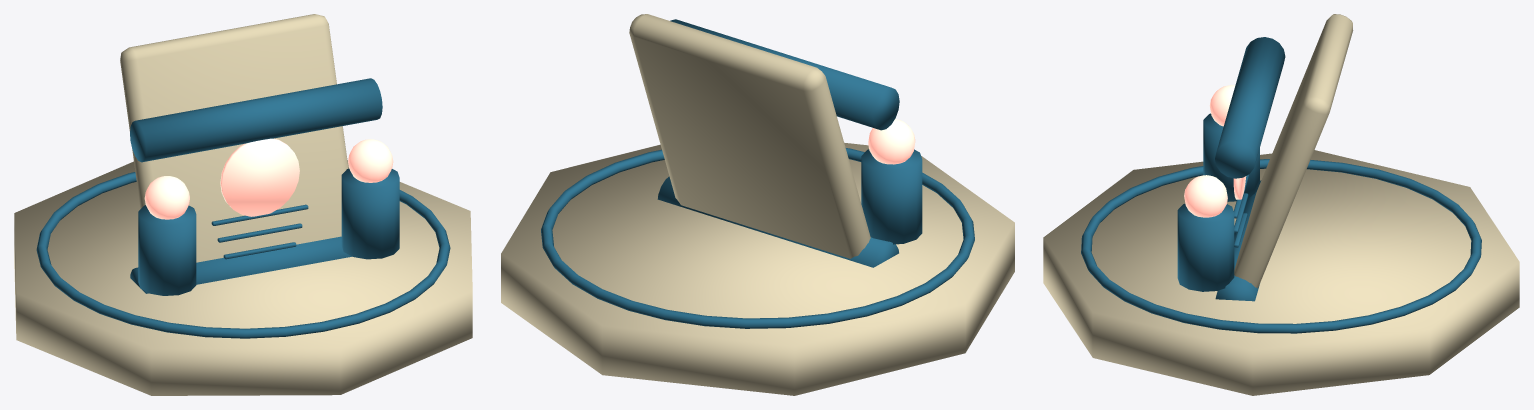
The picture shows the model from 3 angles, left to right: view 1: azimuth 30°, elevation 25°; view 2: azimuth 150°, elevation 25°; view 3: azimuth 270°, elevation 25°; orthographic projection. The views are drawn at different scales.
Visible parts, largest first — view 1: Hexagonal plinth, Parchment, Binding.001, Inlaid rim, 3B embossed seal, Tactical token, Tactical token.001, Binding, Tactical head, Tactical head.001, Embossed line, Embossed line.001 (+1 smaller); view 2: Hexagonal plinth, Parchment, Inlaid rim, Tactical token, Binding.001, Tactical head, Binding; view 3: Hexagonal plinth, Parchment, Inlaid rim, Binding.001, Tactical token.001, Tactical token, Tactical head.001, Binding, Tactical head.
Boxes of the visible parts, x1=… form: Hexagonal plinth: x1=14, y1=160, x2=472, y2=395; Parchment: x1=120, y1=14, x2=348, y2=262; Binding.001: x1=130, y1=78, x2=382, y2=162; Inlaid rim: x1=36, y1=172, x2=450, y2=338; 3B embossed seal: x1=220, y1=138, x2=299, y2=216; Tactical token: x1=138, y1=205, x2=196, y2=295; Tactical token.001: x1=341, y1=168, x2=399, y2=259; Binding: x1=130, y1=236, x2=351, y2=293; Tactical head: x1=144, y1=176, x2=189, y2=219; Tactical head.001: x1=348, y1=139, x2=393, y2=182; Embossed line: x1=211, y1=204, x2=308, y2=225; Embossed line.001: x1=217, y1=223, x2=302, y2=242; Hexagonal plinth: x1=501, y1=142, x2=1014, y2=395; Parchment: x1=629, y1=14, x2=870, y2=258; Inlaid rim: x1=541, y1=148, x2=974, y2=328; Tactical token: x1=861, y1=149, x2=922, y2=244; Binding.001: x1=670, y1=19, x2=899, y2=130; Tactical head: x1=868, y1=119, x2=915, y2=164; Binding: x1=657, y1=176, x2=898, y2=267; Hexagonal plinth: x1=1043, y1=150, x2=1519, y2=395; Parchment: x1=1234, y1=14, x2=1353, y2=288; Inlaid rim: x1=1081, y1=159, x2=1481, y2=333; Binding.001: x1=1215, y1=37, x2=1285, y2=178; Tactical token.001: x1=1177, y1=203, x2=1234, y2=291; Tactical token: x1=1203, y1=113, x2=1259, y2=201; Tactical head.001: x1=1184, y1=175, x2=1227, y2=217; Binding: x1=1215, y1=180, x2=1261, y2=301; Tactical head: x1=1209, y1=85, x2=1235, y2=126.
Bounding box in the file's own units: 1.51 × 0.8899 × 1.51.
